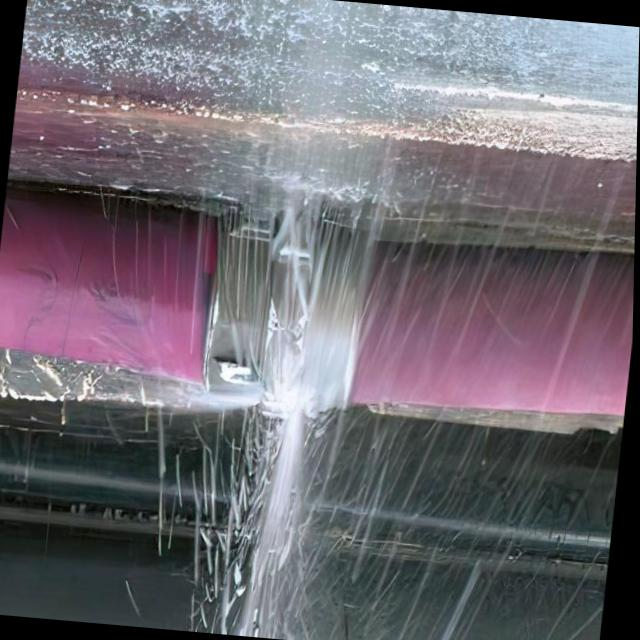leak: (142, 0, 636, 640)
